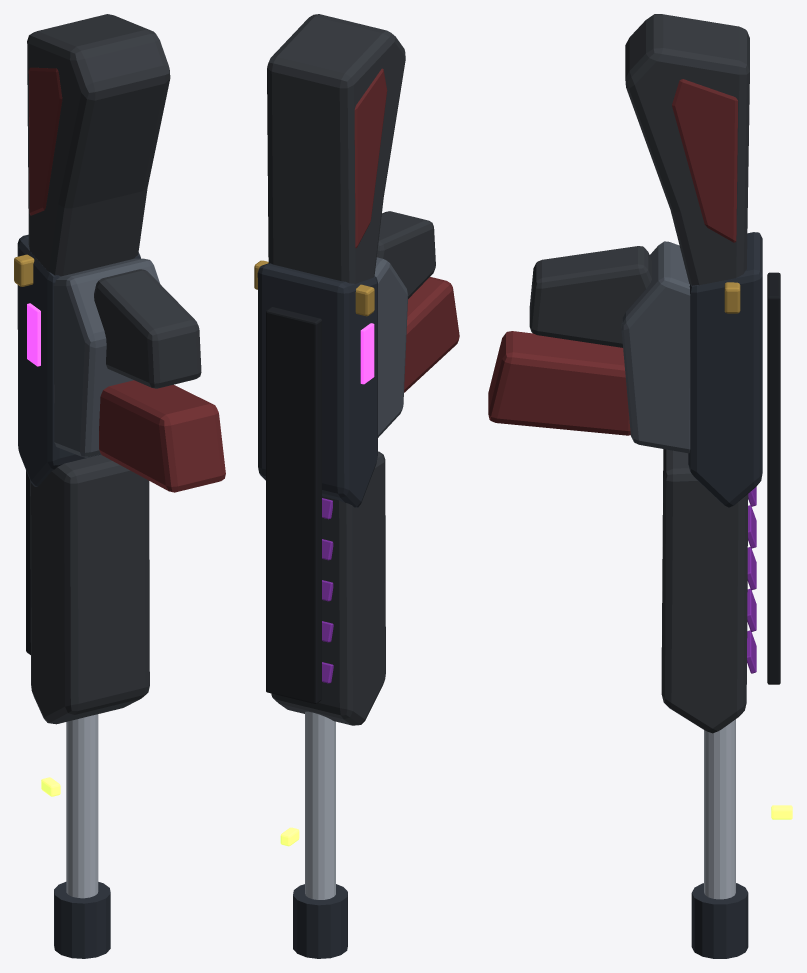
The model's file is BLIKK_AR4_RIFLE.glb.
3 renders of one model, left to right at view 1: azimuth 30°, elevation 25°; view 2: azimuth 150°, elevation 25°; view 3: azimuth 270°, elevation 25°, orthographic. The views are drawn at different scales.
Visible parts, largest first — view 1: Handguard.001, Stock.001, Magazine.001, LowerReceiver, PistolGrip.002, UpperReceiver, Barrel.001, StockCheek, MuzzleBrake, TopRail.001, AR4Mark, ChargingHandle; view 2: Stock.001, TopRail.001, UpperReceiver, Handguard.001, Barrel.001, LowerReceiver, Magazine.001, StockCheek, PistolGrip.002, MuzzleBrake, AR4Mark, ChargingHandle; view 3: Handguard.001, Stock.001, UpperReceiver, Magazine.001, LowerReceiver, PistolGrip.002, StockCheek, TopRail.001, Barrel.001, MuzzleBrake.
Boxes of the visible parts, x1,y1,x2,y2 form: Handguard.001: (30,454,149,724); Stock.001: (27,14,170,276); Magazine.001: (99,380,225,492); LowerReceiver: (53,258,159,457); PistolGrip.002: (94,269,201,388); UpperReceiver: (17,234,140,486); Barrel.001: (66,714,98,898); StockCheek: (28,67,62,215); MuzzleBrake: (54,882,110,958); TopRail.001: (26,470,30,654); AR4Mark: (27,303,40,366); ChargingHandle: (14,254,34,286); Stock.001: (267,14,405,283); TopRail.001: (266,307,321,703); UpperReceiver: (257,263,377,507); Handguard.001: (271,451,385,725); Barrel.001: (305,711,335,899); LowerReceiver: (374,257,408,437); Magazine.001: (404,277,459,392); StockCheek: (354,68,387,248); PistolGrip.002: (377,211,435,298); MuzzleBrake: (293,884,347,958); AR4Mark: (360,323,374,384); ChargingHandle: (254,260,374,316); Handguard.001: (661,449,748,733); Stock.001: (625,14,749,285); UpperReceiver: (688,232,762,507); Magazine.001: (488,331,630,435); LowerReceiver: (621,241,690,453); PistolGrip.002: (529,246,651,347); StockCheek: (672,79,738,242); TopRail.001: (767,272,780,684); Barrel.001: (704,719,735,899); MuzzleBrake: (691,883,748,958).
Size of the model in its own units: 0.76 by 5.71 by 1.72.
